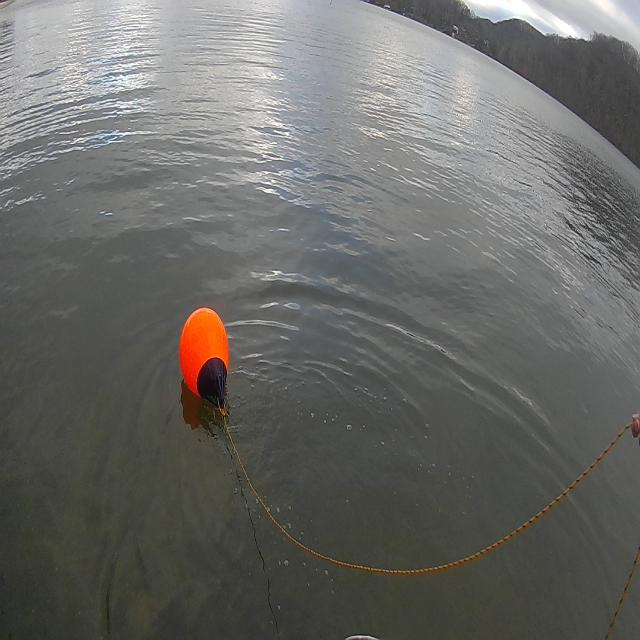Buoy: (177, 296, 233, 412)
